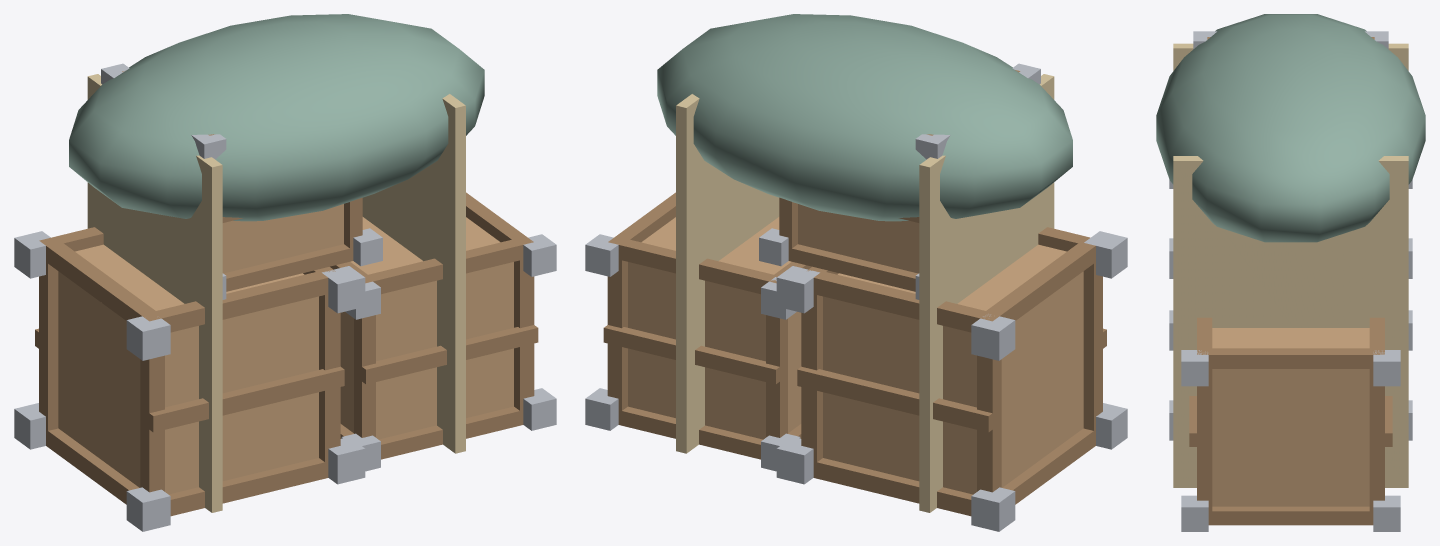
The model's file is kit__stack.fbx.
3 views of the same model, side by side, from view 1: azimuth 30°, elevation 25°; view 2: azimuth 150°, elevation 25°; view 3: azimuth 270°, elevation 25° (orthographic). The views are drawn at different scales.
Parts seen in each view (by area): view 1: kit__stack; view 2: kit__stack; view 3: kit__stack.
Boxes of the visible parts, x1=… form: kit__stack: x1=14, y1=14, x2=556, y2=531; kit__stack: x1=585, y1=14, x2=1127, y2=531; kit__stack: x1=1156, y1=14, x2=1425, y2=531.
Bounding box in the file's own units: 2.42 × 2.17 × 1.42.
